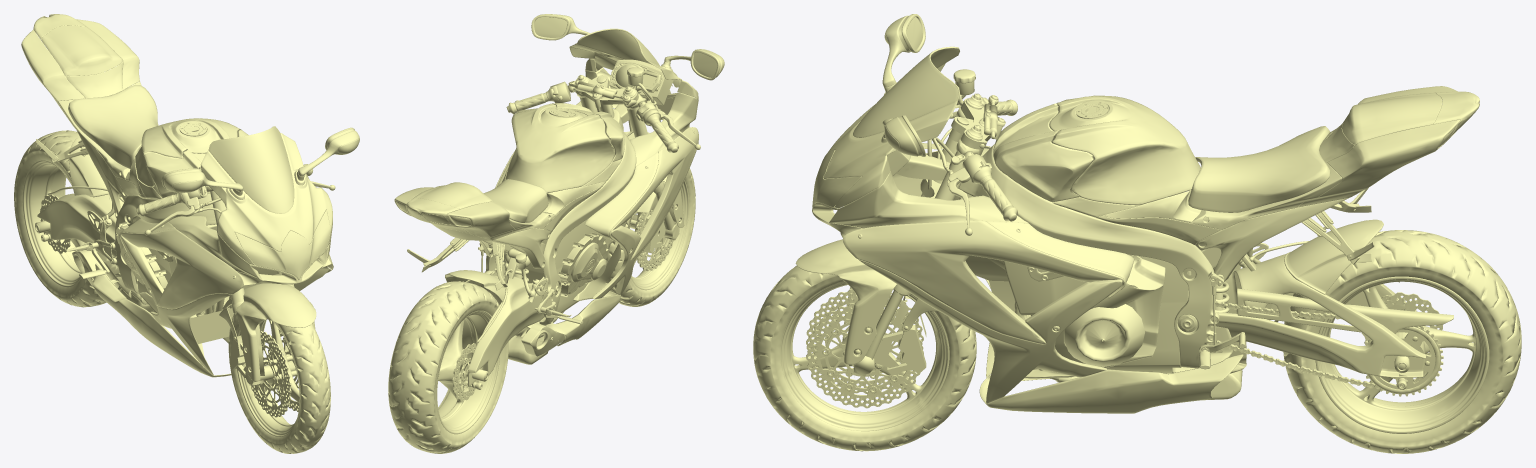
File: MangaKa Props - M_R_Bikes_01.glb
3 renders of one model, left to right at view 1: azimuth 30°, elevation 25°; view 2: azimuth 150°, elevation 25°; view 3: azimuth 270°, elevation 25°, orthographic. The views are drawn at different scales.
Parts seen in each view (by area): view 1: M_R_Bikes_01_blueScreen, M_R_Bikes_01_Steering_blueScreen, M_R_Bikes_01_FWheel_blueScreen, M_R_Bikes_01_Glass_blueScreen, M_R_Bikes_01_Seat_blueScreen, M_R_Bikes_01_BWheelMetal_blueScreen, M_R_Bikes_01_FWheelMetal_blueScreen, M_R_Bikes_01_BWheel_blueScreen, M_R_Bikes_01_HeadLight_blueScreen, M_R_Bikes_01_SteerHandle_blueScreen; view 2: M_R_Bikes_01_blueScreen, M_R_Bikes_01_BWheel_blueScreen, M_R_Bikes_01_Steering_blueScreen, M_R_Bikes_01_BWheelMetal_blueScreen, M_R_Bikes_01_FWheelMetal_blueScreen, M_R_Bikes_01_FWheel_blueScreen, M_R_Bikes_01_Light_blueScreen, M_R_Bikes_01_Seat_blueScreen, M_R_Bikes_01_Glass_blueScreen, M_R_Bikes_01_SteerHandle_blueScreen; view 3: M_R_Bikes_01_blueScreen, M_R_Bikes_01_BWheel_blueScreen, M_R_Bikes_01_Steering_blueScreen, M_R_Bikes_01_FWheelMetal_blueScreen, M_R_Bikes_01_BWheelMetal_blueScreen, M_R_Bikes_01_FWheel_blueScreen, M_R_Bikes_01_Seat_blueScreen, M_R_Bikes_01_Glass_blueScreen, M_R_Bikes_01_Belt_blueScreen, M_R_Bikes_01_HeadLight_blueScreen, M_R_Bikes_01_SteerHandle_blueScreen.
Part boxes in pixels (x1,y1,x2,y2): M_R_Bikes_01_blueScreen: (21, 14, 359, 377); M_R_Bikes_01_Steering_blueScreen: (136, 164, 335, 385); M_R_Bikes_01_FWheel_blueScreen: (228, 313, 330, 453); M_R_Bikes_01_Glass_blueScreen: (208, 126, 294, 213); M_R_Bikes_01_Seat_blueScreen: (68, 85, 157, 168); M_R_Bikes_01_BWheelMetal_blueScreen: (22, 160, 85, 287); M_R_Bikes_01_FWheelMetal_blueScreen: (237, 319, 299, 436); M_R_Bikes_01_BWheel_blueScreen: (14, 130, 121, 307); M_R_Bikes_01_HeadLight_blueScreen: (235, 209, 330, 279); M_R_Bikes_01_SteerHandle_blueScreen: (144, 165, 309, 213); M_R_Bikes_01_blueScreen: (394, 14, 724, 389); M_R_Bikes_01_BWheel_blueScreen: (388, 281, 508, 453); M_R_Bikes_01_Steering_blueScreen: (506, 67, 700, 253); M_R_Bikes_01_BWheelMetal_blueScreen: (436, 310, 499, 434); M_R_Bikes_01_FWheelMetal_blueScreen: (629, 180, 689, 290); M_R_Bikes_01_FWheel_blueScreen: (605, 168, 695, 306); M_R_Bikes_01_Light_blueScreen: (396, 17, 717, 225); M_R_Bikes_01_Seat_blueScreen: (483, 179, 548, 222); M_R_Bikes_01_Glass_blueScreen: (577, 28, 659, 65); M_R_Bikes_01_SteerHandle_blueScreen: (514, 92, 674, 146); M_R_Bikes_01_blueScreen: (812, 14, 1479, 413); M_R_Bikes_01_BWheel_blueScreen: (1283, 230, 1521, 453); M_R_Bikes_01_Steering_blueScreen: (795, 69, 1017, 376); M_R_Bikes_01_FWheelMetal_blueScreen: (780, 281, 949, 431); M_R_Bikes_01_BWheelMetal_blueScreen: (1315, 276, 1489, 433); M_R_Bikes_01_FWheel_blueScreen: (753, 265, 976, 451); M_R_Bikes_01_Seat_blueScreen: (1188, 126, 1330, 212); M_R_Bikes_01_Glass_blueScreen: (853, 46, 960, 137); M_R_Bikes_01_Belt_blueScreen: (1210, 301, 1431, 390); M_R_Bikes_01_HeadLight_blueScreen: (812, 150, 861, 207); M_R_Bikes_01_SteerHandle_blueScreen: (980, 101, 1013, 214).
Size of the model in its own units: 0.758 by 1.12 by 1.99.
